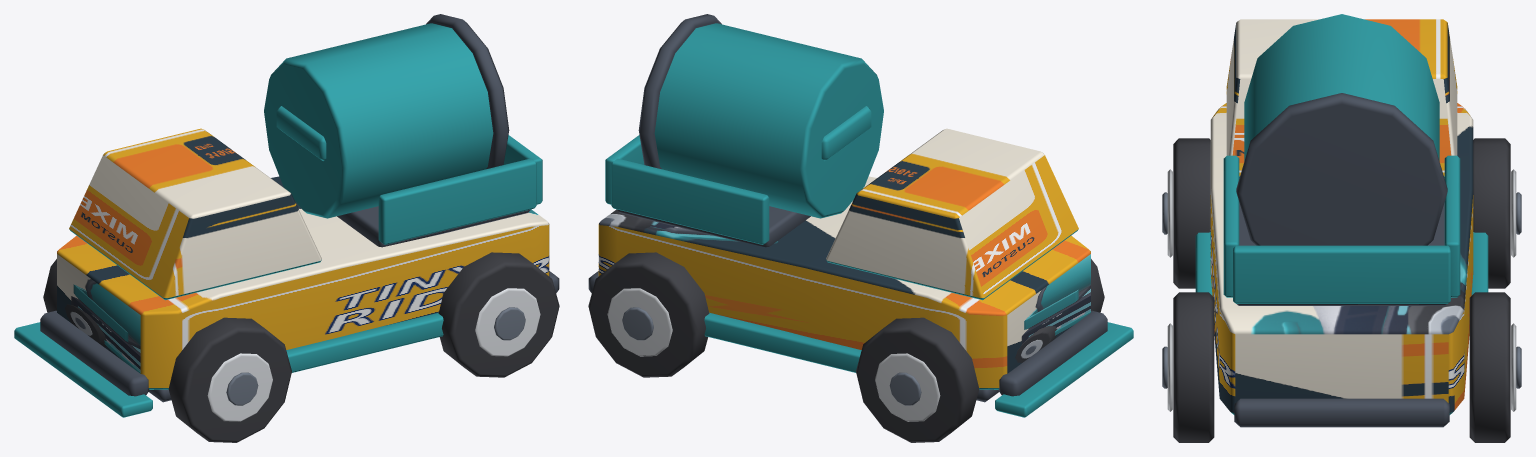
The picture shows the model from 3 angles, left to right: view 1: azimuth 30°, elevation 25°; view 2: azimuth 150°, elevation 25°; view 3: azimuth 270°, elevation 25°; orthographic projection. The views are drawn at different scales.
Visible parts, largest first — view 1: WY-02_connected_shell, large mixing drum, WY-02_cabin, Tire, Tire.002, cargo side, custom side guard, custom chin, front bumper, rear drum collar, Rim.002, Rim (+6 smaller); view 2: WY-02_connected_shell, large mixing drum, WY-02_cabin, Tire.001, Tire.003, cargo side.001, custom side guard.001, custom chin, front bumper, rear drum collar, Rim.003, Rim.001 (+6 smaller); view 3: WY-02_connected_shell, rear drum collar, large mixing drum, cargo tail, WY-02_cabin, rear bumper, Tire.002, Tire.003, Tire, Tire.001, cargo side, cargo side.001 (+7 smaller).
Part boxes in pixels (x1=…): WY-02_connected_shell: x1=57, y1=176, x2=549, y2=389; large mixing drum: x1=264, y1=23, x2=493, y2=218; WY-02_cabin: x1=69, y1=128, x2=321, y2=300; Tire: x1=168, y1=317, x2=291, y2=442; Tire.002: x1=438, y1=252, x2=559, y2=377; cargo side: x1=378, y1=158, x2=536, y2=244; custom side guard: x1=286, y1=312, x2=443, y2=372; custom chin: x1=14, y1=322, x2=152, y2=417; front bumper: x1=40, y1=310, x2=149, y2=396; rear drum collar: x1=426, y1=14, x2=509, y2=169; Rim.002: x1=475, y1=288, x2=540, y2=356; Rim: x1=207, y1=353, x2=272, y2=421; WY-02_connected_shell: x1=598, y1=176, x2=1090, y2=389; large mixing drum: x1=654, y1=23, x2=883, y2=218; WY-02_cabin: x1=826, y1=128, x2=1078, y2=300; Tire.001: x1=856, y1=317, x2=979, y2=442; Tire.003: x1=588, y1=252, x2=709, y2=377; cargo side.001: x1=611, y1=158, x2=769, y2=244; custom side guard.001: x1=704, y1=312, x2=861, y2=372; custom chin: x1=995, y1=322, x2=1133, y2=417; front bumper: x1=998, y1=310, x2=1107, y2=396; rear drum collar: x1=638, y1=14, x2=721, y2=169; Rim.003: x1=607, y1=288, x2=672, y2=356; Rim.001: x1=875, y1=353, x2=940, y2=421; WY-02_connected_shell: x1=1210, y1=103, x2=1473, y2=414; rear drum collar: x1=1236, y1=93, x2=1447, y2=245; large mixing drum: x1=1244, y1=14, x2=1439, y2=160; cargo tail: x1=1233, y1=245, x2=1450, y2=303; WY-02_cabin: x1=1226, y1=19, x2=1457, y2=177; rear bumper: x1=1234, y1=398, x2=1449, y2=427; Tire.002: x1=1173, y1=292, x2=1214, y2=442; Tire.003: x1=1469, y1=292, x2=1510, y2=442; Tire: x1=1173, y1=138, x2=1210, y2=288; Tire.001: x1=1473, y1=138, x2=1510, y2=288; cargo side: x1=1223, y1=155, x2=1239, y2=297; cargo side.001: x1=1444, y1=155, x2=1460, y2=297.
Bounding box in the file's own units: 388 × 249 × 228.
